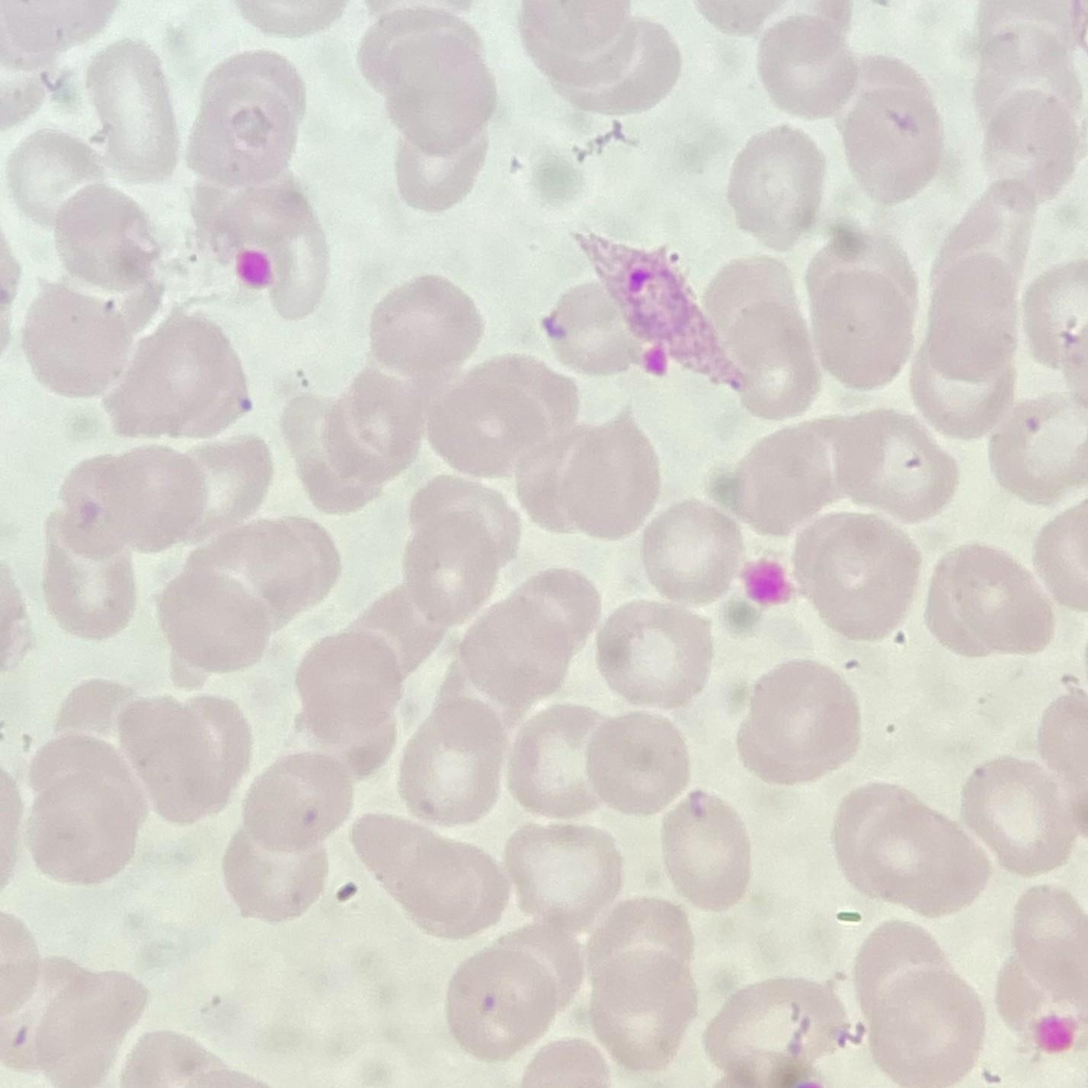Infected: (566, 225, 749, 394)
Uninfected: (792, 515, 926, 638), (859, 804, 996, 918), (832, 408, 958, 525), (558, 402, 659, 543), (867, 970, 987, 1086), (175, 80, 305, 187), (86, 33, 179, 182), (400, 699, 507, 827), (962, 755, 1074, 876), (116, 699, 223, 824), (943, 543, 1060, 656), (23, 278, 132, 399), (709, 972, 851, 1064), (596, 597, 715, 706), (389, 37, 501, 152), (501, 827, 626, 930), (840, 88, 947, 208), (106, 321, 220, 432), (589, 949, 694, 1069), (27, 779, 141, 889), (465, 597, 575, 711), (446, 949, 555, 1063), (505, 696, 604, 821), (728, 124, 825, 251), (423, 385, 554, 478), (909, 328, 1019, 438), (238, 751, 356, 853), (726, 301, 822, 426), (817, 271, 917, 390), (320, 372, 424, 486), (985, 393, 1088, 508), (926, 256, 1020, 382), (352, 12, 482, 103), (368, 273, 485, 373), (293, 631, 405, 735), (659, 795, 758, 912), (99, 446, 205, 554), (38, 534, 138, 644), (53, 187, 155, 294), (589, 898, 699, 997), (400, 511, 499, 621), (985, 94, 1083, 205), (747, 658, 862, 752), (642, 499, 747, 601), (587, 707, 688, 813), (390, 111, 491, 216), (758, 19, 863, 120), (164, 568, 270, 667), (175, 437, 284, 533), (541, 286, 648, 383), (223, 823, 328, 920), (10, 128, 106, 225)
